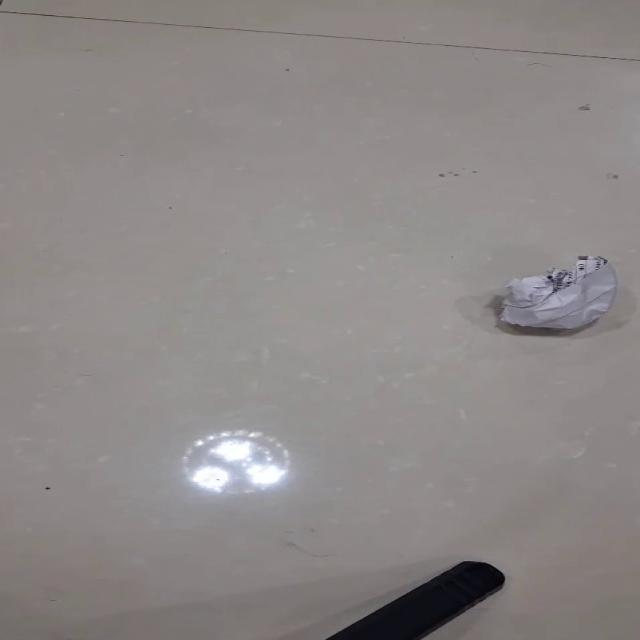paper: (497, 254, 617, 330)
